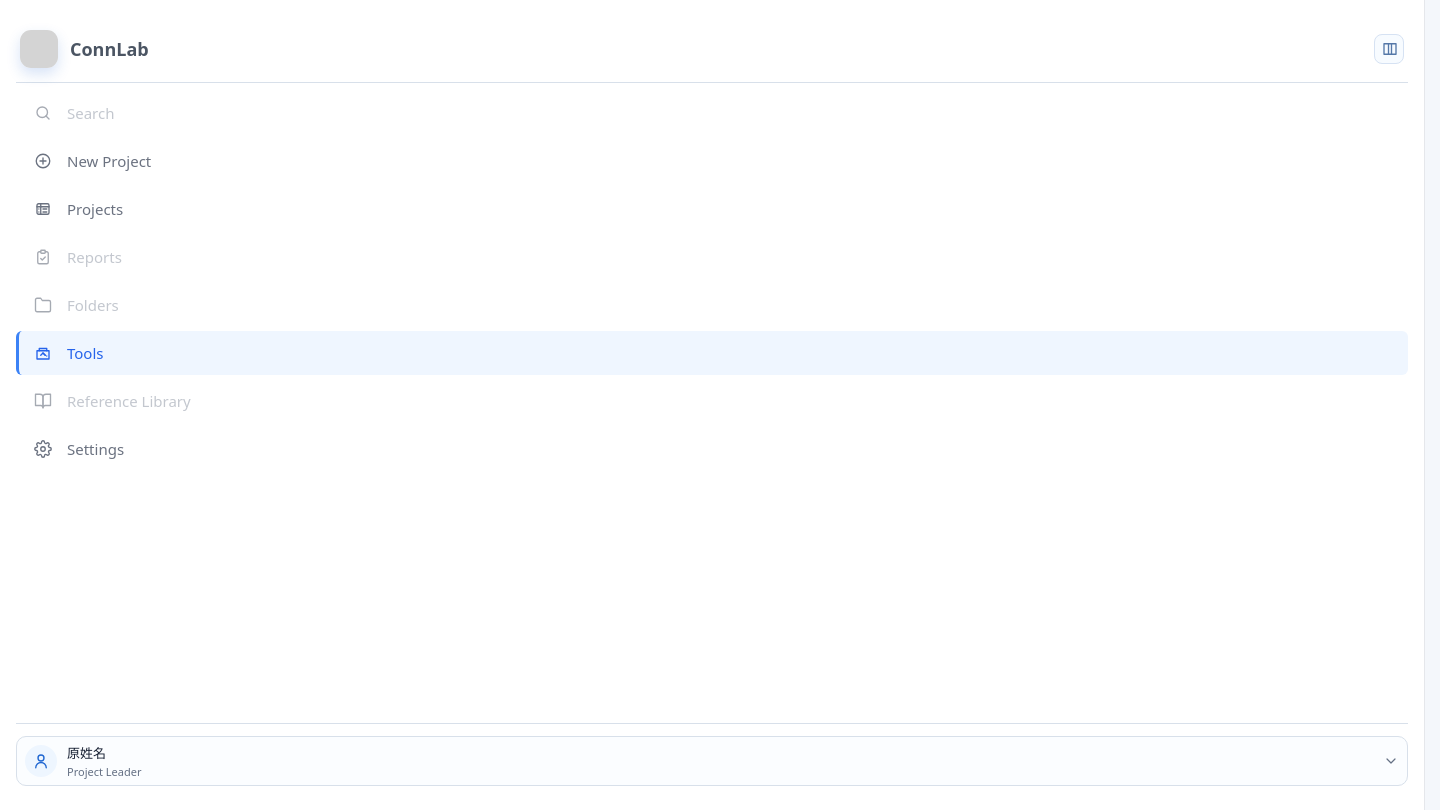
Sidebar interaction lock › keeps the old name without stale save alerts after cancel/reopen, and permits a successful retry
Click the button "原姓名 Project Leader".
click(41, 761)  # box [16,736,1408,786]
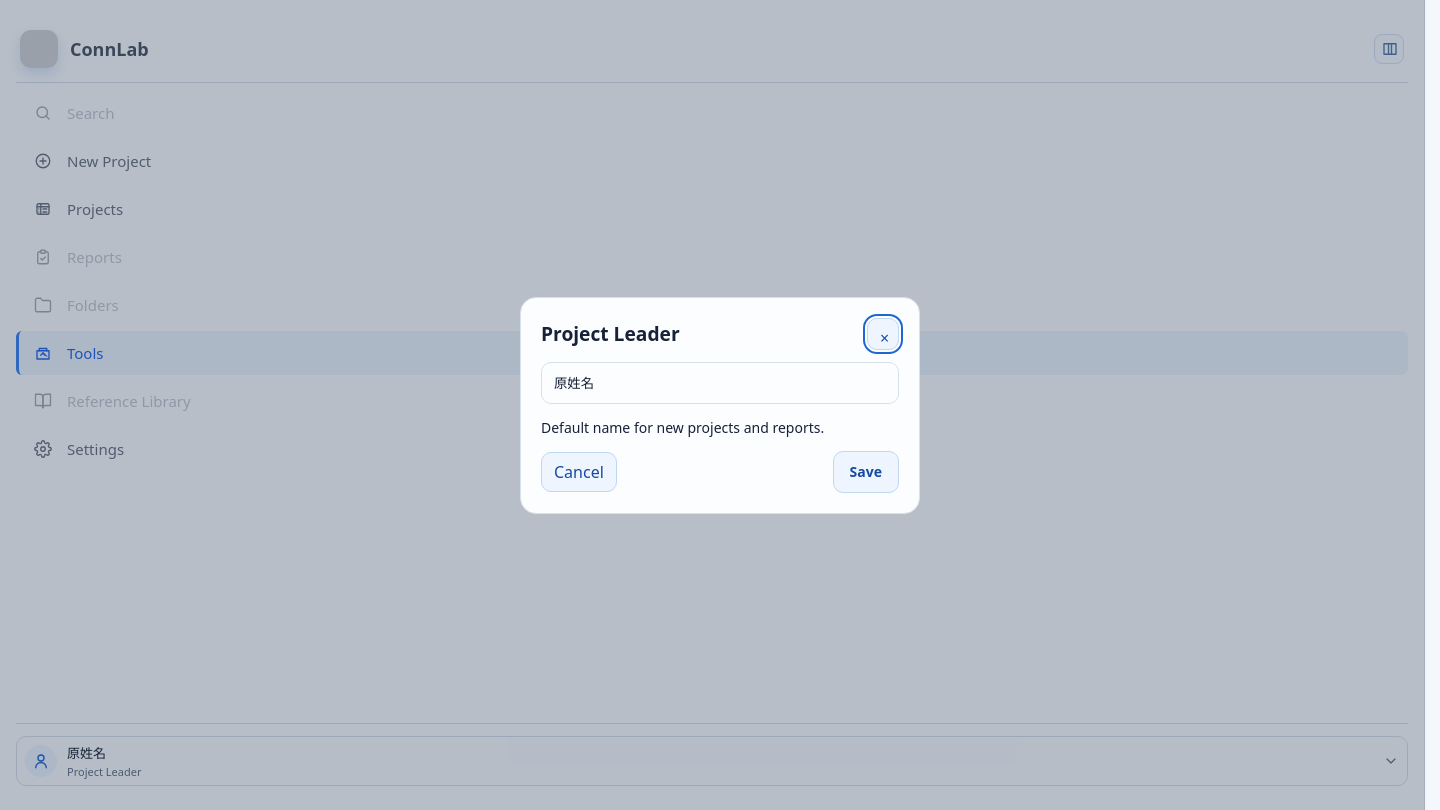
Replace the text in the field labelled "Project Leader" with "新姓名" at x=720, y=382, box [541,362,899,404]
Click the button "Save".
click(866, 472)  # box [833,450,899,492]
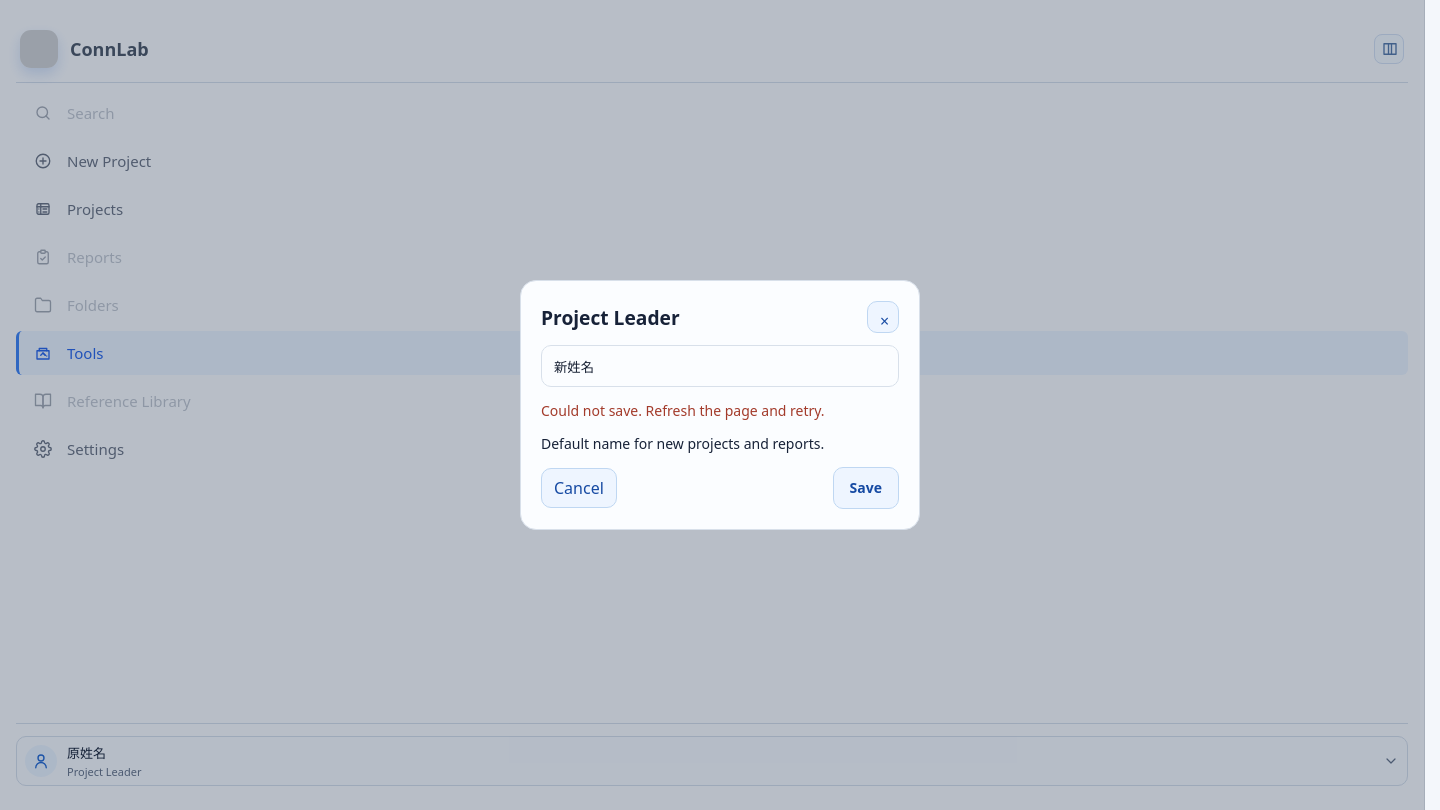
Result: the message reads "Could not save. Refresh the page and retry." at [541,401,825,420]
Click the button "Cancel".
click(579, 488)  # box [541,468,617,508]
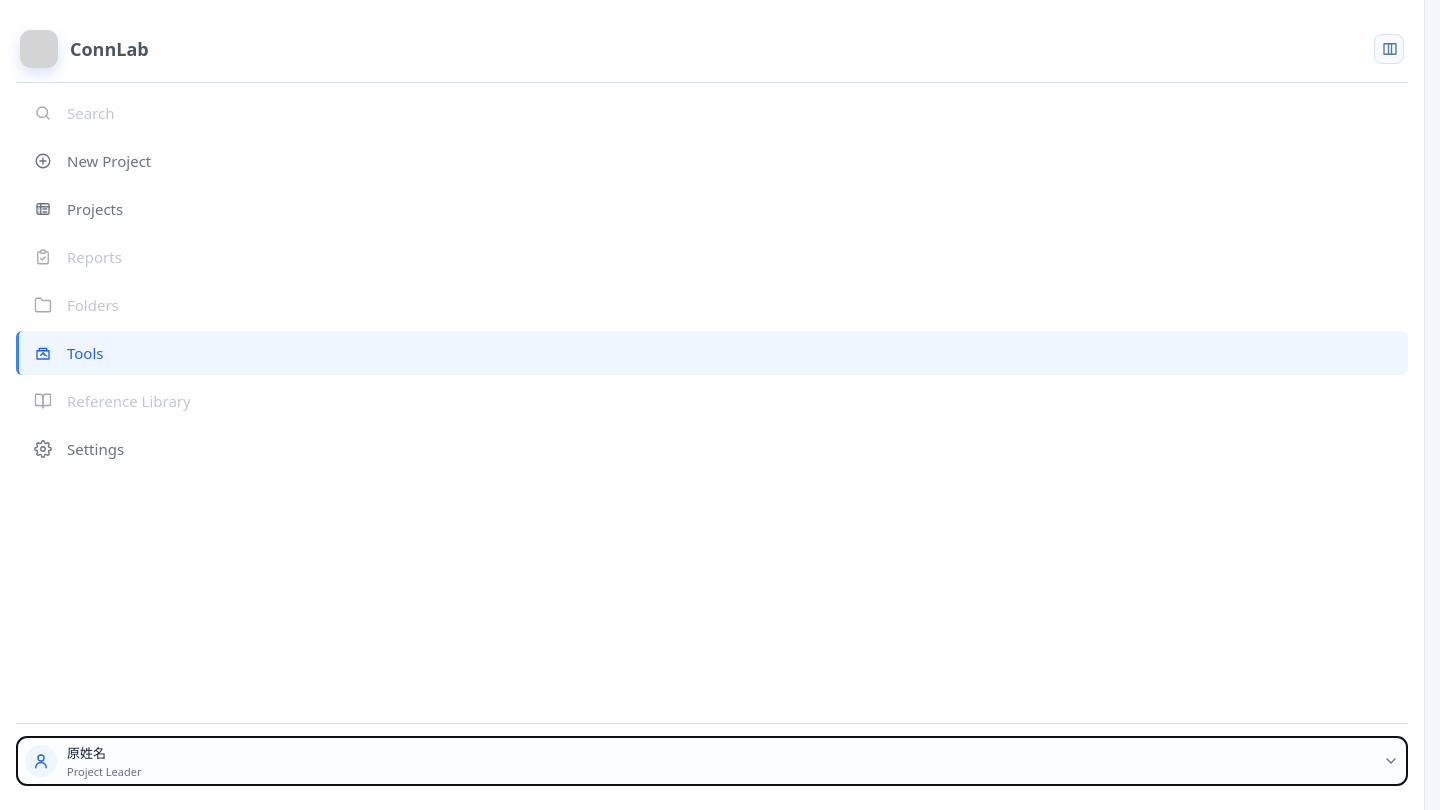
Click the button "原姓名 Project Leader".
click(41, 761)  # box [16,736,1408,786]
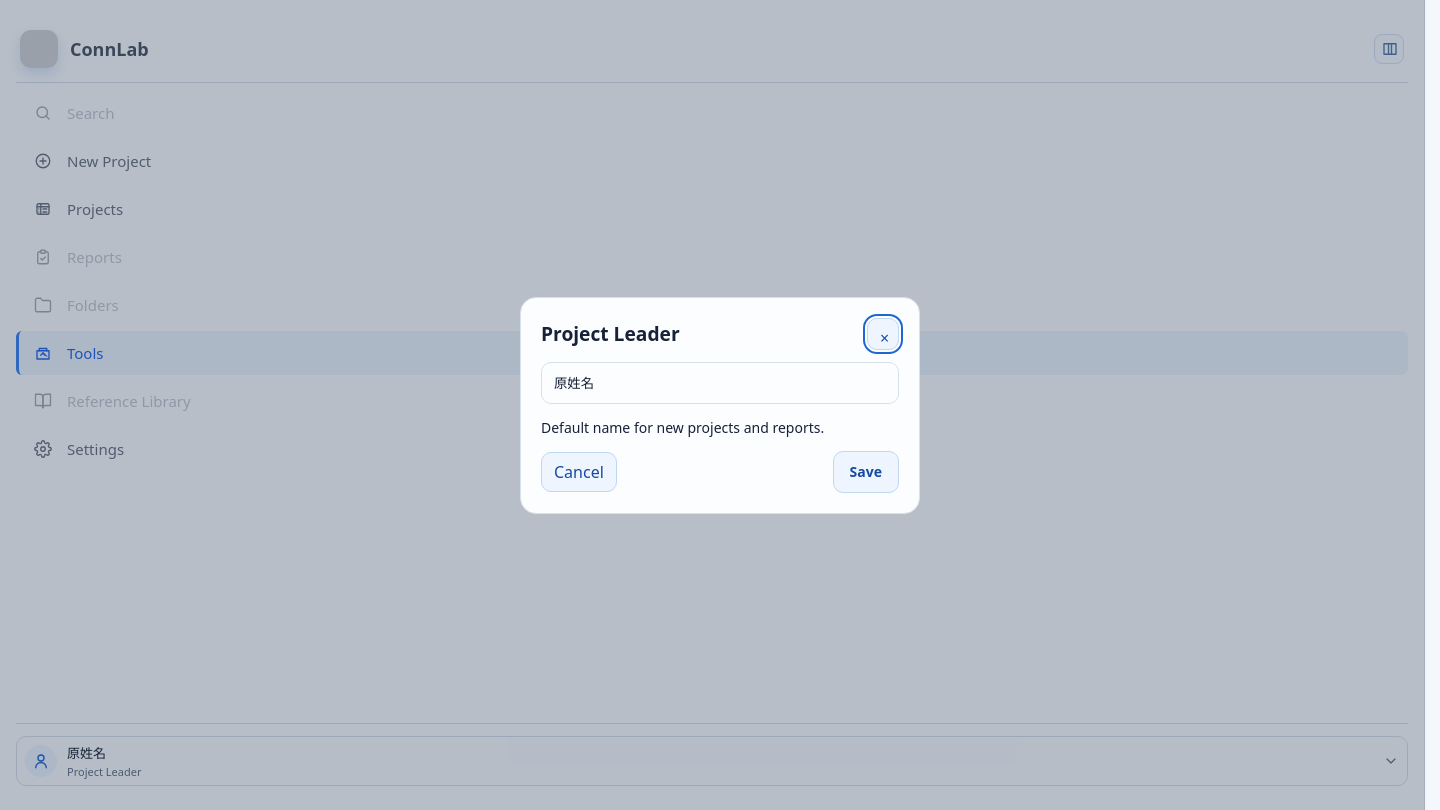
Expected: the message "Could not save. Refresh the page and retry." is not shown
Result: the field labelled "Project Leader" holds "原姓名"
Replace the text in the field labelled "Project Leader" with "新姓名" at x=720, y=382, box [541,362,899,404]
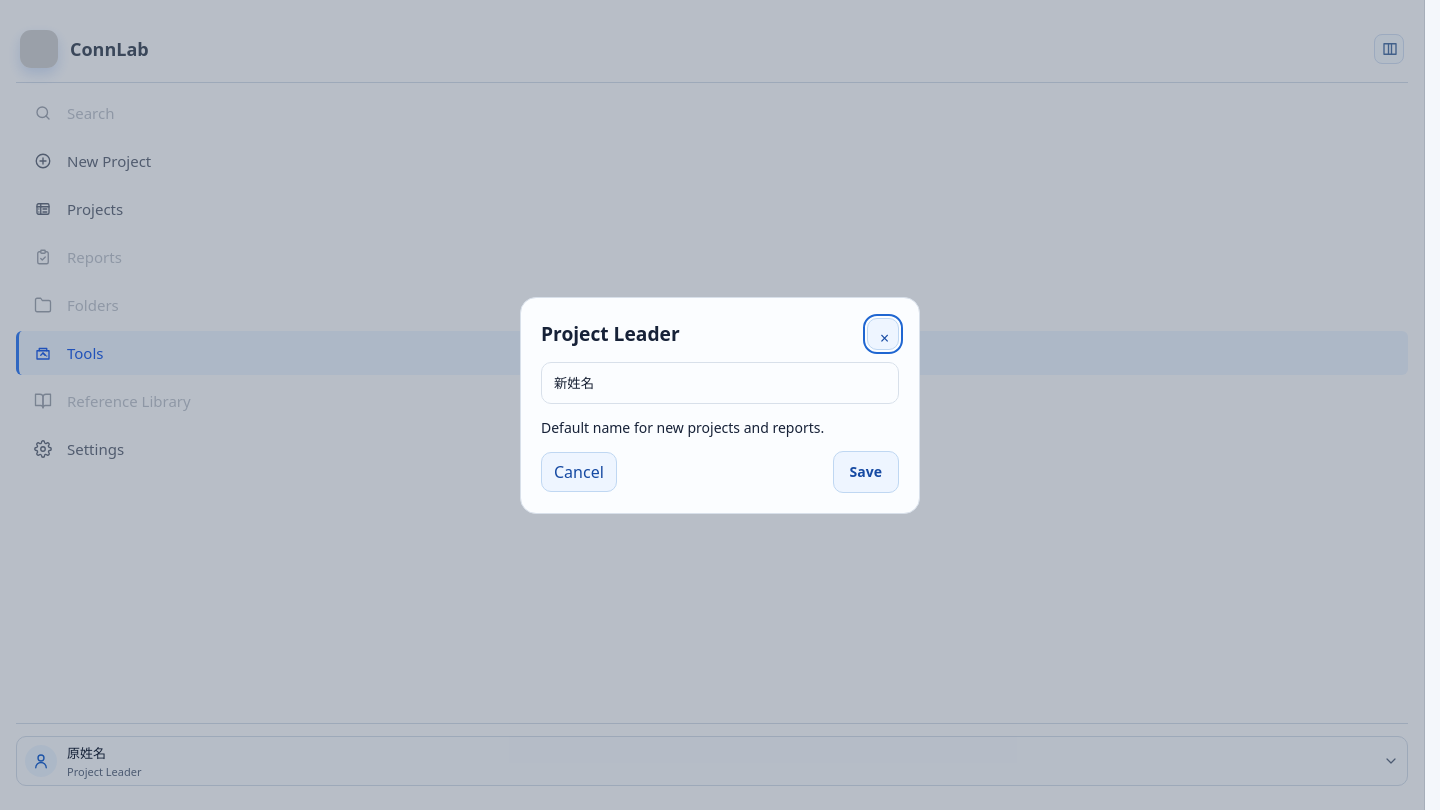
Expected: the message "Could not save. Refresh the page and retry." is not shown
Click the button "Save".
click(866, 472)  # box [833,450,899,492]
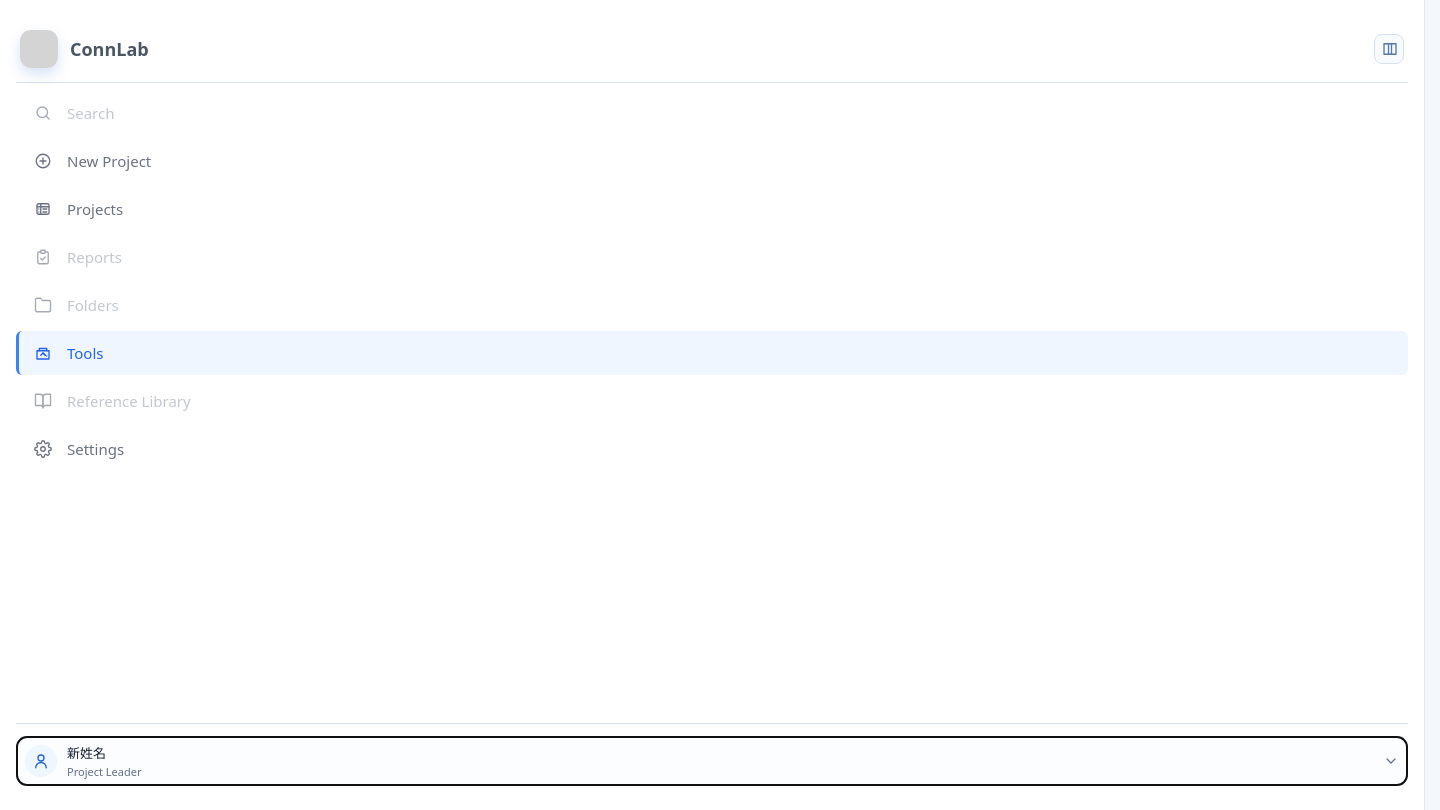
Result: the dialog is gone
